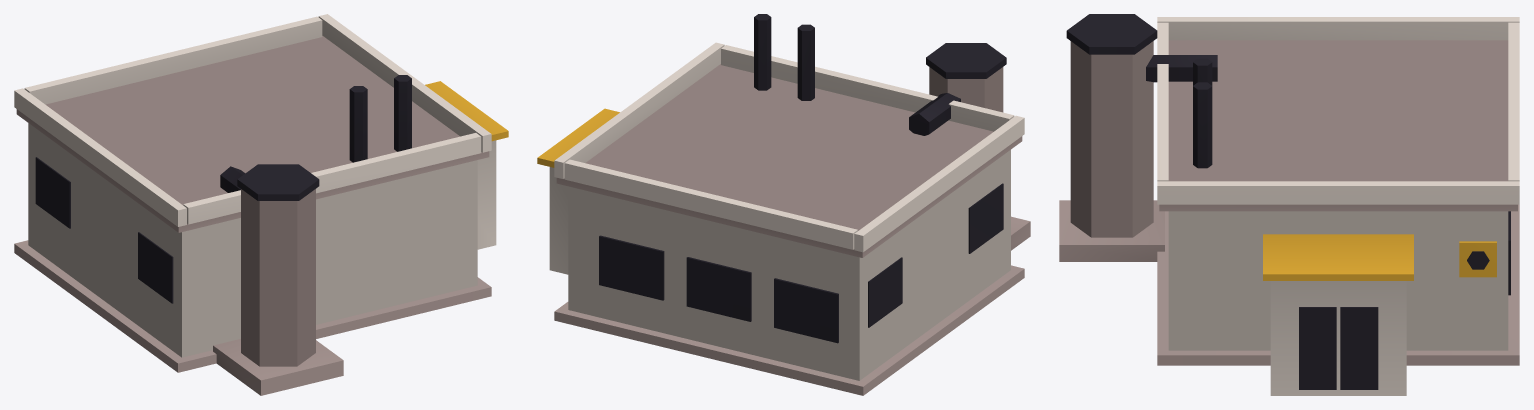
Rendered from bld.cure-lab-annex.lod2.glb.
3 views of the same model, side by side, from view 1: azimuth 30°, elevation 25°; view 2: azimuth 150°, elevation 25°; view 3: azimuth 270°, elevation 25° (orthographic). The views are drawn at different scales.
Visible parts, largest first — view 1: body; view 2: body; view 3: body.
Part boxes in pixels (<box>): body: <box>14,14,508,395</box>; body: <box>537,14,1030,395</box>; body: <box>1059,14,1519,395</box>.
Bounding box in the file's own units: 12.8 × 7.1 × 12.2.
